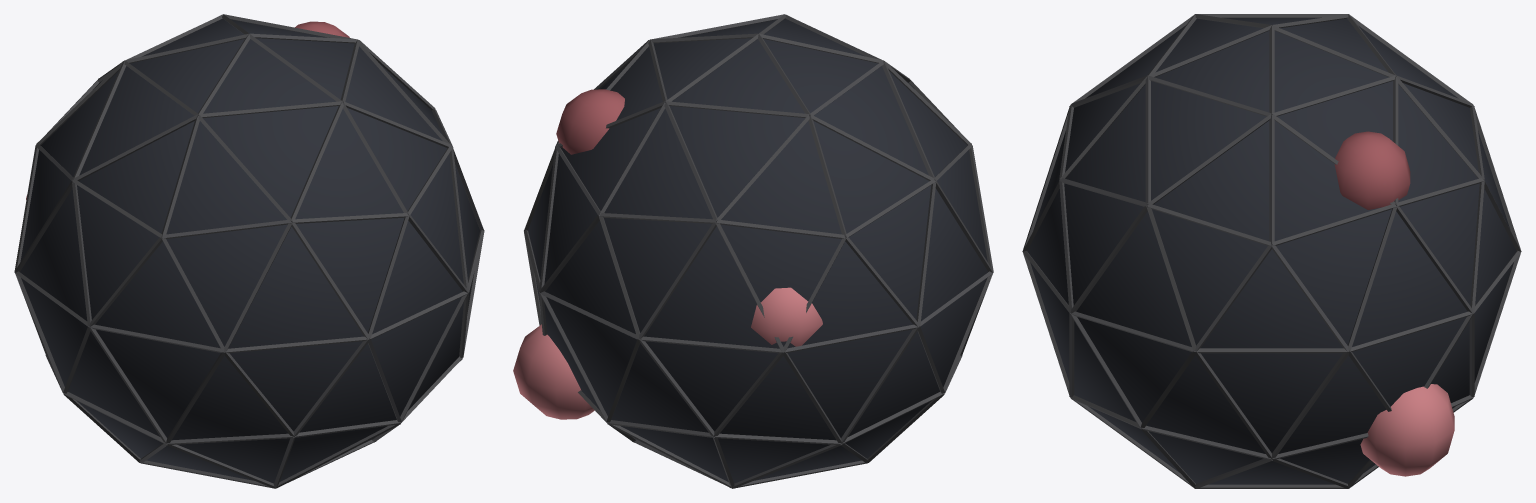
Rendered from nucleus_b_assembled.obj.
3 views of the same model, side by side, from view 1: azimuth 30°, elevation 25°; view 2: azimuth 150°, elevation 25°; view 3: azimuth 270°, elevation 25° (orthographic). The views are drawn at different scales.
Visible parts, largest first — view 1: source_component_000, source_component_084, source_component_086, source_component_087, source_component_098, source_component_088, source_component_070, source_component_069, source_component_097, source_component_022, source_component_085, source_component_072 (+29 smaller); view 2: source_component_000, source_component_123, source_component_121, source_component_122, source_component_082, source_component_080, source_component_079, source_component_096, source_component_078, source_component_064, source_component_068, source_component_094 (+29 smaller); view 3: source_component_000, source_component_123, source_component_121, source_component_103, source_component_104, source_component_105, source_component_078, source_component_088, source_component_057, source_component_074, source_component_076, source_component_090 (+25 smaller).
Part boxes in pixels (left/top/right/bottom): source_component_000: left=20, top=18, right=480, bottom=483; source_component_084: left=72, top=180, right=91, bottom=325; source_component_086: left=225, top=336, right=368, bottom=353; source_component_087: left=291, top=222, right=368, bottom=338; source_component_098: left=89, top=327, right=166, bottom=443; source_component_088: left=449, top=147, right=468, bottom=291; source_component_070: left=198, top=101, right=342, bottom=117; source_component_069: left=73, top=114, right=197, bottom=180; source_component_097: left=89, top=324, right=223, bottom=352; source_component_022: left=163, top=220, right=291, bottom=238; source_component_085: left=224, top=222, right=292, bottom=351; source_component_072: left=291, top=102, right=343, bottom=221; source_component_000: left=528, top=18, right=987, bottom=483; source_component_123: left=513, top=324, right=594, bottom=419; source_component_121: left=556, top=89, right=624, bottom=154; source_component_122: left=751, top=287, right=822, bottom=346; source_component_082: left=916, top=180, right=936, bottom=326; source_component_080: left=639, top=336, right=783, bottom=353; source_component_079: left=639, top=222, right=716, bottom=339; source_component_096: left=841, top=327, right=918, bottom=443; source_component_078: left=539, top=147, right=558, bottom=291; source_component_064: left=666, top=101, right=809, bottom=117; source_component_068: left=810, top=114, right=934, bottom=180; source_component_094: left=784, top=324, right=918, bottom=352; source_component_000: left=1027, top=18, right=1516, bottom=484; source_component_123: left=1360, top=384, right=1454, bottom=476; source_component_121: left=1334, top=131, right=1410, bottom=209; source_component_103: left=1195, top=348, right=1348, bottom=353; source_component_104: left=1195, top=351, right=1272, bottom=459; source_component_105: left=1271, top=351, right=1348, bottom=459; source_component_078: left=1396, top=205, right=1473, bottom=313; source_component_088: left=1070, top=205, right=1147, bottom=313; source_component_057: left=1269, top=115, right=1274, bottom=244; source_component_074: left=1145, top=76, right=1150, bottom=204; source_component_076: left=1348, top=206, right=1397, bottom=350; source_component_090: left=1146, top=206, right=1195, bottom=350.
Size of the model in its own units: 0.8902 by 0.9351 by 0.935.
